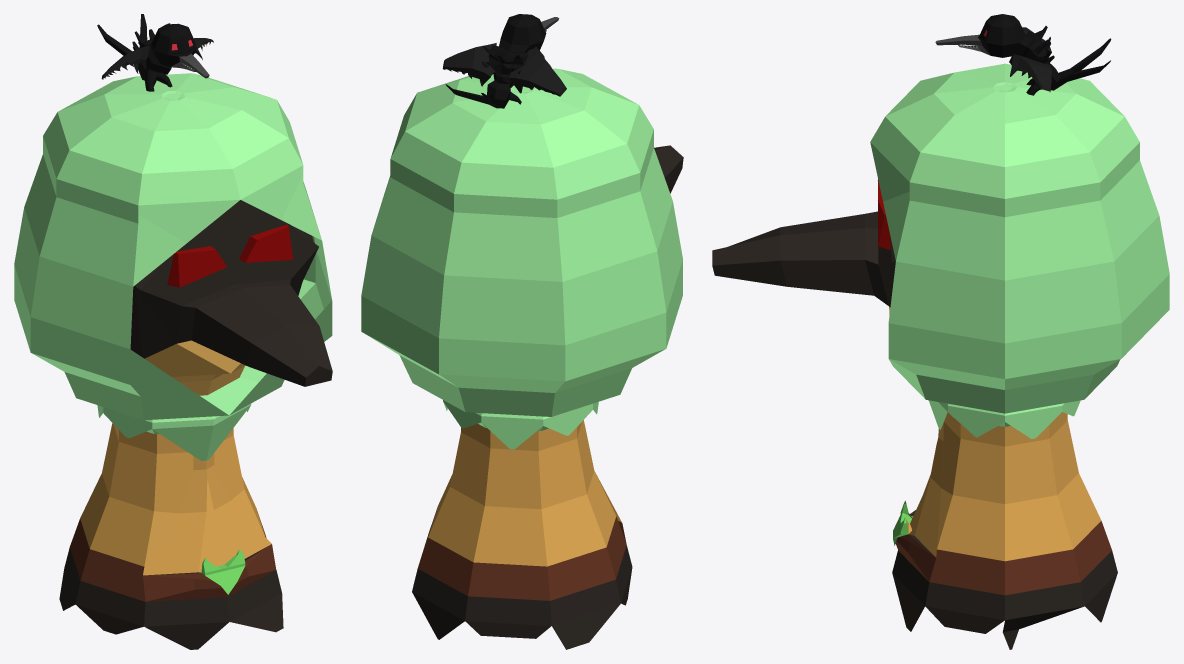
The model's file is Boss.fbx.
3 renders of one model, left to right at view 1: azimuth 30°, elevation 25°; view 2: azimuth 150°, elevation 25°; view 3: azimuth 270°, elevation 25°, orthographic.
Parts seen in each view (by area): view 1: Personagem, Corvo, Corvo.001, Asa; view 2: Personagem, Corvo, Asa, Asa.001, Corvo.001; view 3: Personagem, Corvo, Corvo.001, Asa.001.
Part boxes in pixels (bbox=[...]): Personagem: bbox=[14, 73, 332, 649]; Corvo: bbox=[97, 14, 209, 77]; Corvo.001: bbox=[97, 26, 209, 91]; Asa: bbox=[101, 46, 150, 79]; Personagem: bbox=[361, 68, 683, 649]; Corvo: bbox=[446, 14, 558, 107]; Asa: bbox=[508, 46, 566, 96]; Asa.001: bbox=[442, 43, 496, 86]; Corvo.001: bbox=[446, 18, 558, 108]; Personagem: bbox=[712, 63, 1169, 649]; Corvo: bbox=[936, 14, 1111, 88]; Corvo.001: bbox=[935, 28, 1110, 95]; Asa.001: bbox=[1010, 54, 1051, 91].
Size of the model in its own units: 202 by 403 by 281.
